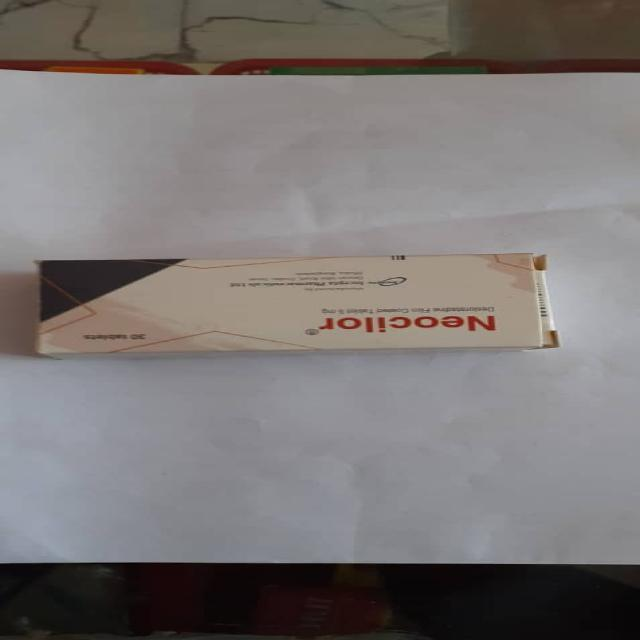drug-name: (318, 314, 498, 334)
